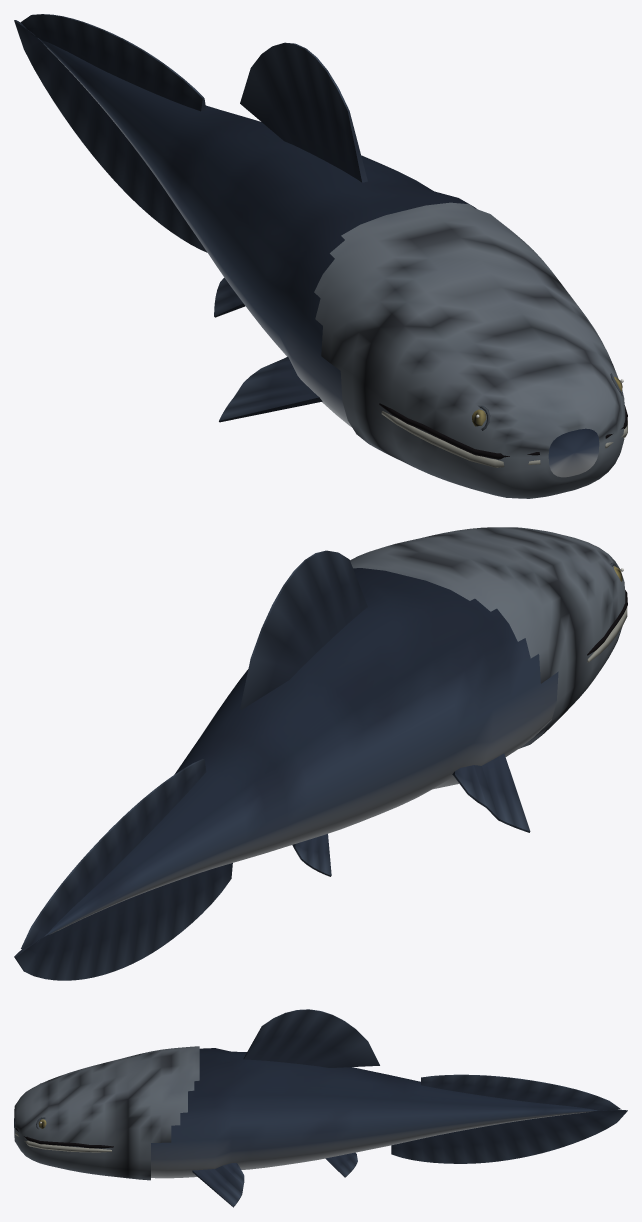
The model's file is Titanichthys.fbx.
3 renders of one model, top to bottom at view 1: azimuth 30°, elevation 25°; view 2: azimuth 150°, elevation 25°; view 3: azimuth 270°, elevation 25°, orthographic. The views are drawn at different scales.
Parts seen in each view (by area): view 1: Titanichthys; view 2: Titanichthys; view 3: Titanichthys.
Boxes of the visible parts, x1,y1,x2,y2 form: Titanichthys: (14,14,627,498); Titanichthys: (14,527,627,980); Titanichthys: (14,1009,627,1207).
Size of the model in its own units: 0.5338 by 0.4736 by 1.66.
